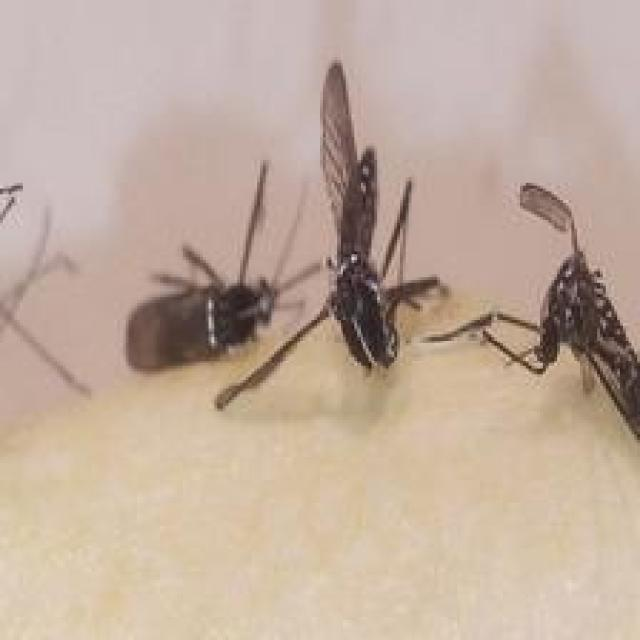Aedes albopictus: (213, 60, 447, 411)
